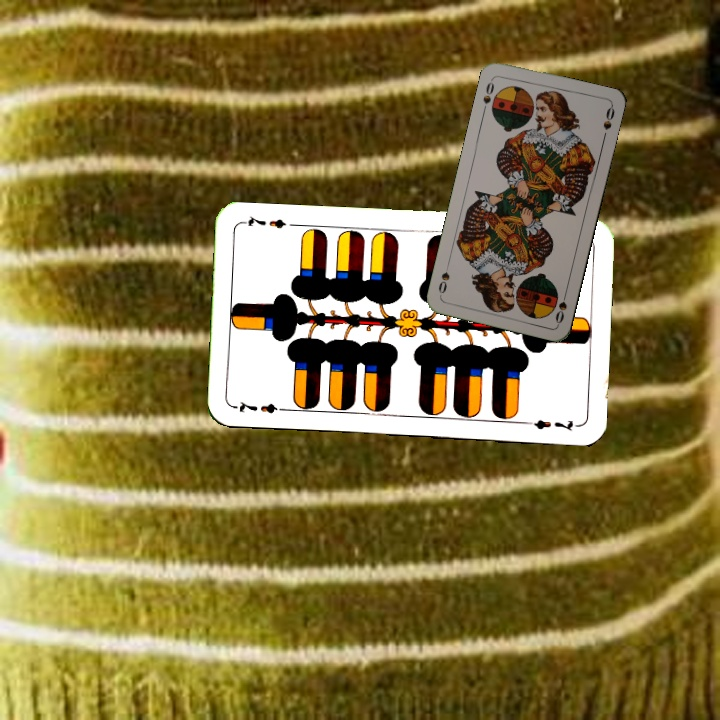E7: (232, 397, 291, 416)
SO: (551, 286, 570, 326), (479, 74, 497, 106)
